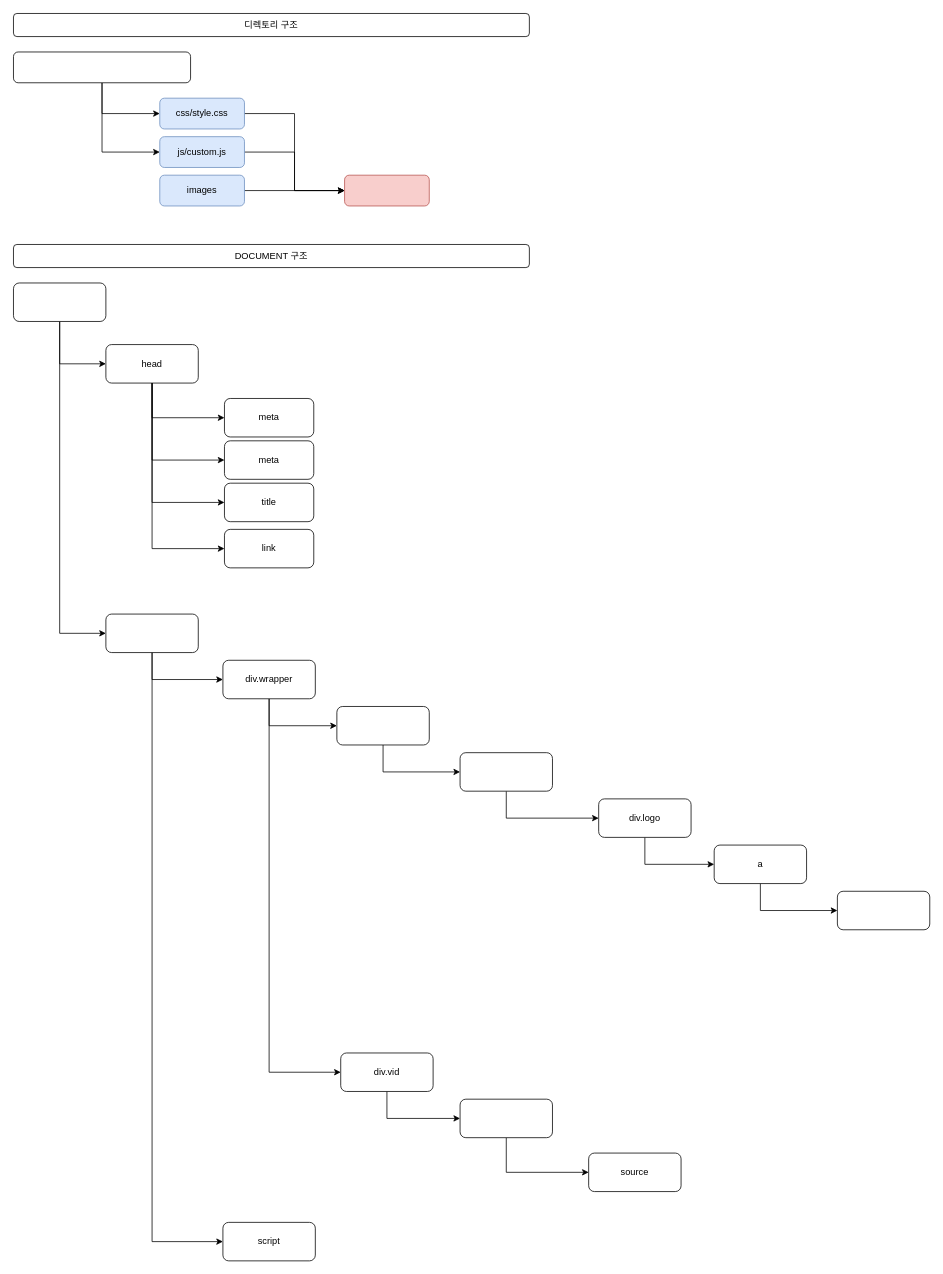
The diagram is 943 pixels wide and 1274 high, and some of its shapes have lost their labels. Each missing label, with the centre of its shape:
body: the point at 151,633
div.container: the point at 505,771
header: the point at 382,725
html: the point at 59,301
img: the point at 883,910
index.html: the point at 386,190
ROOT: the point at 102,67
video: the point at 505,1118
